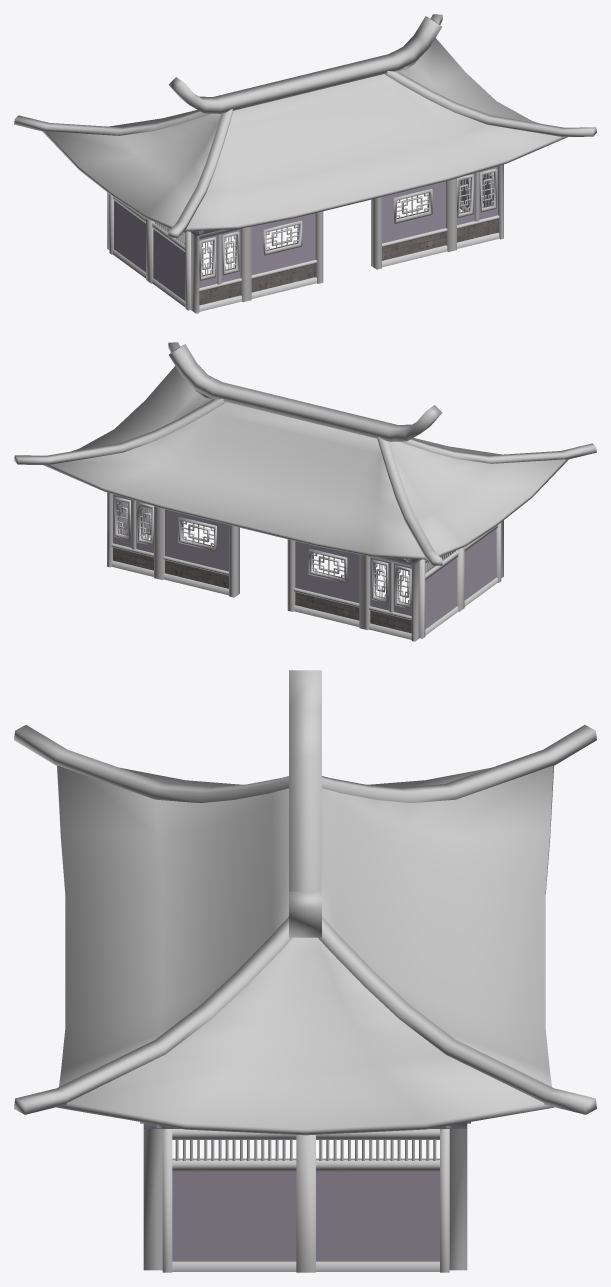
Rendered from Building 5.fbx.
3 views of the same model, one above another, from view 1: azimuth 30°, elevation 25°; view 2: azimuth 150°, elevation 25°; view 3: azimuth 270°, elevation 25° (orthographic). The views are drawn at different scales.
Visible parts, largest first — view 1: Building 5; view 2: Building 5; view 3: Building 5.
Boxes of the visible parts, bbox=[...] form: Building 5: bbox=[14, 14, 596, 313]; Building 5: bbox=[14, 342, 596, 641]; Building 5: bbox=[14, 670, 596, 1272].
Size of the model in its own units: 11.29 by 4.88 by 7.31.
